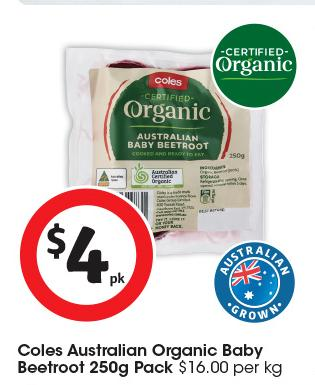description_block: (9, 338, 292, 382)
price_main: (19, 189, 150, 305)
product_image_block: (60, 38, 278, 254)
unit_price_block: (174, 355, 284, 378)
